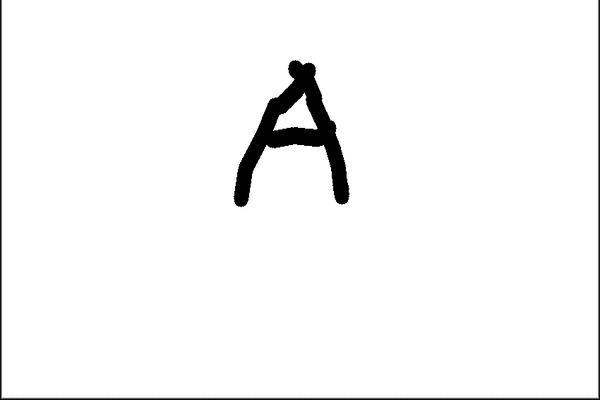A: (216, 54, 363, 211)
